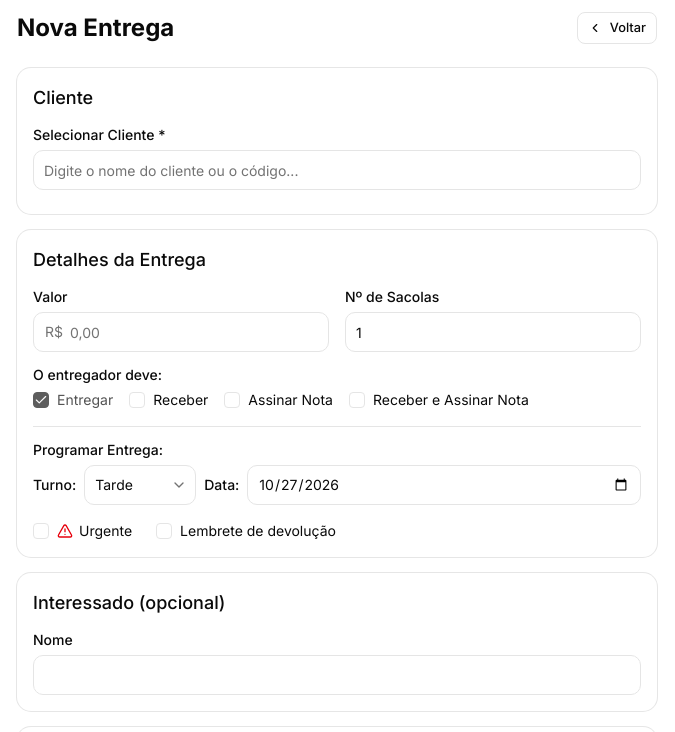
Test case: NovaEntregaForm › formats the valor field to two decimals on blur
Type "1500,5" into the field with placeholder "0,00" at (181, 332), box [33, 312, 329, 352]
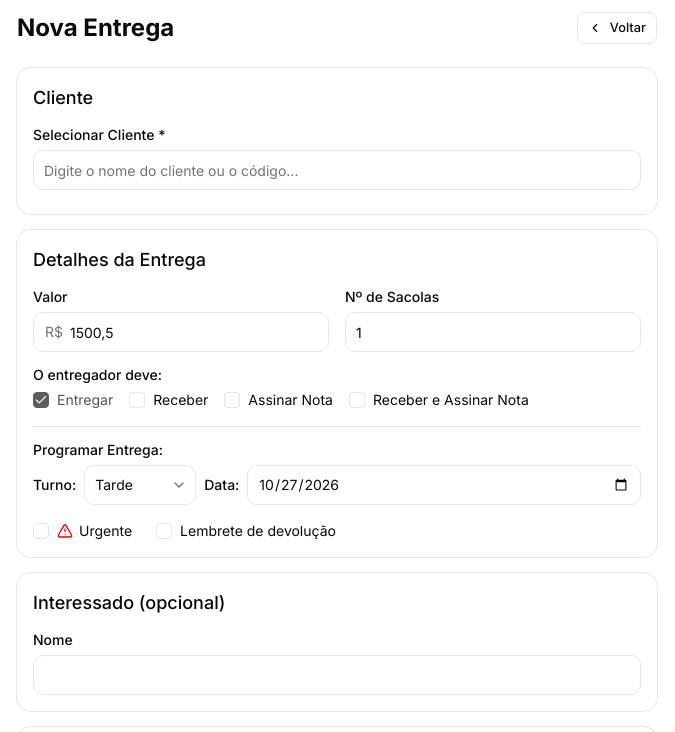
Leave the field with placeholder "0,00", box [33, 312, 329, 352]
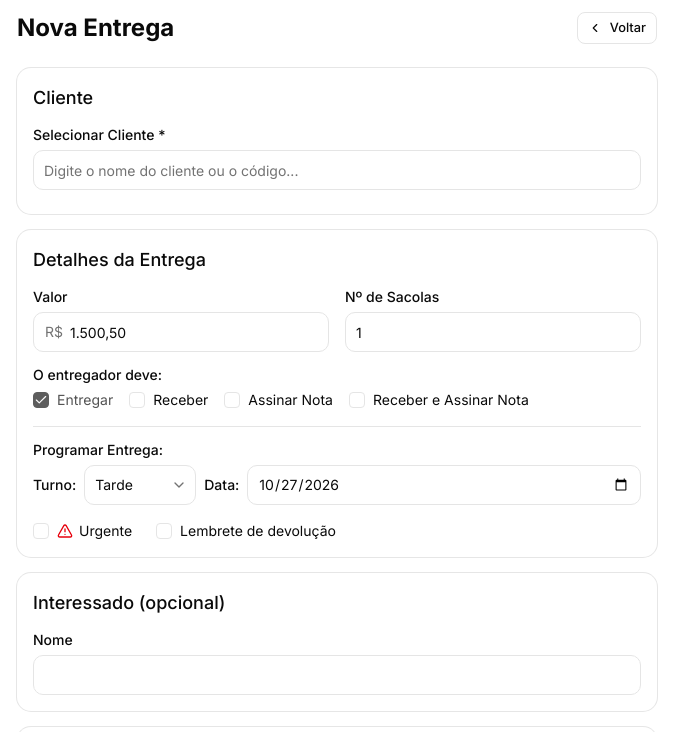
Result: the field with placeholder "0,00" holds "1.500,50" at [33, 312, 329, 352]
